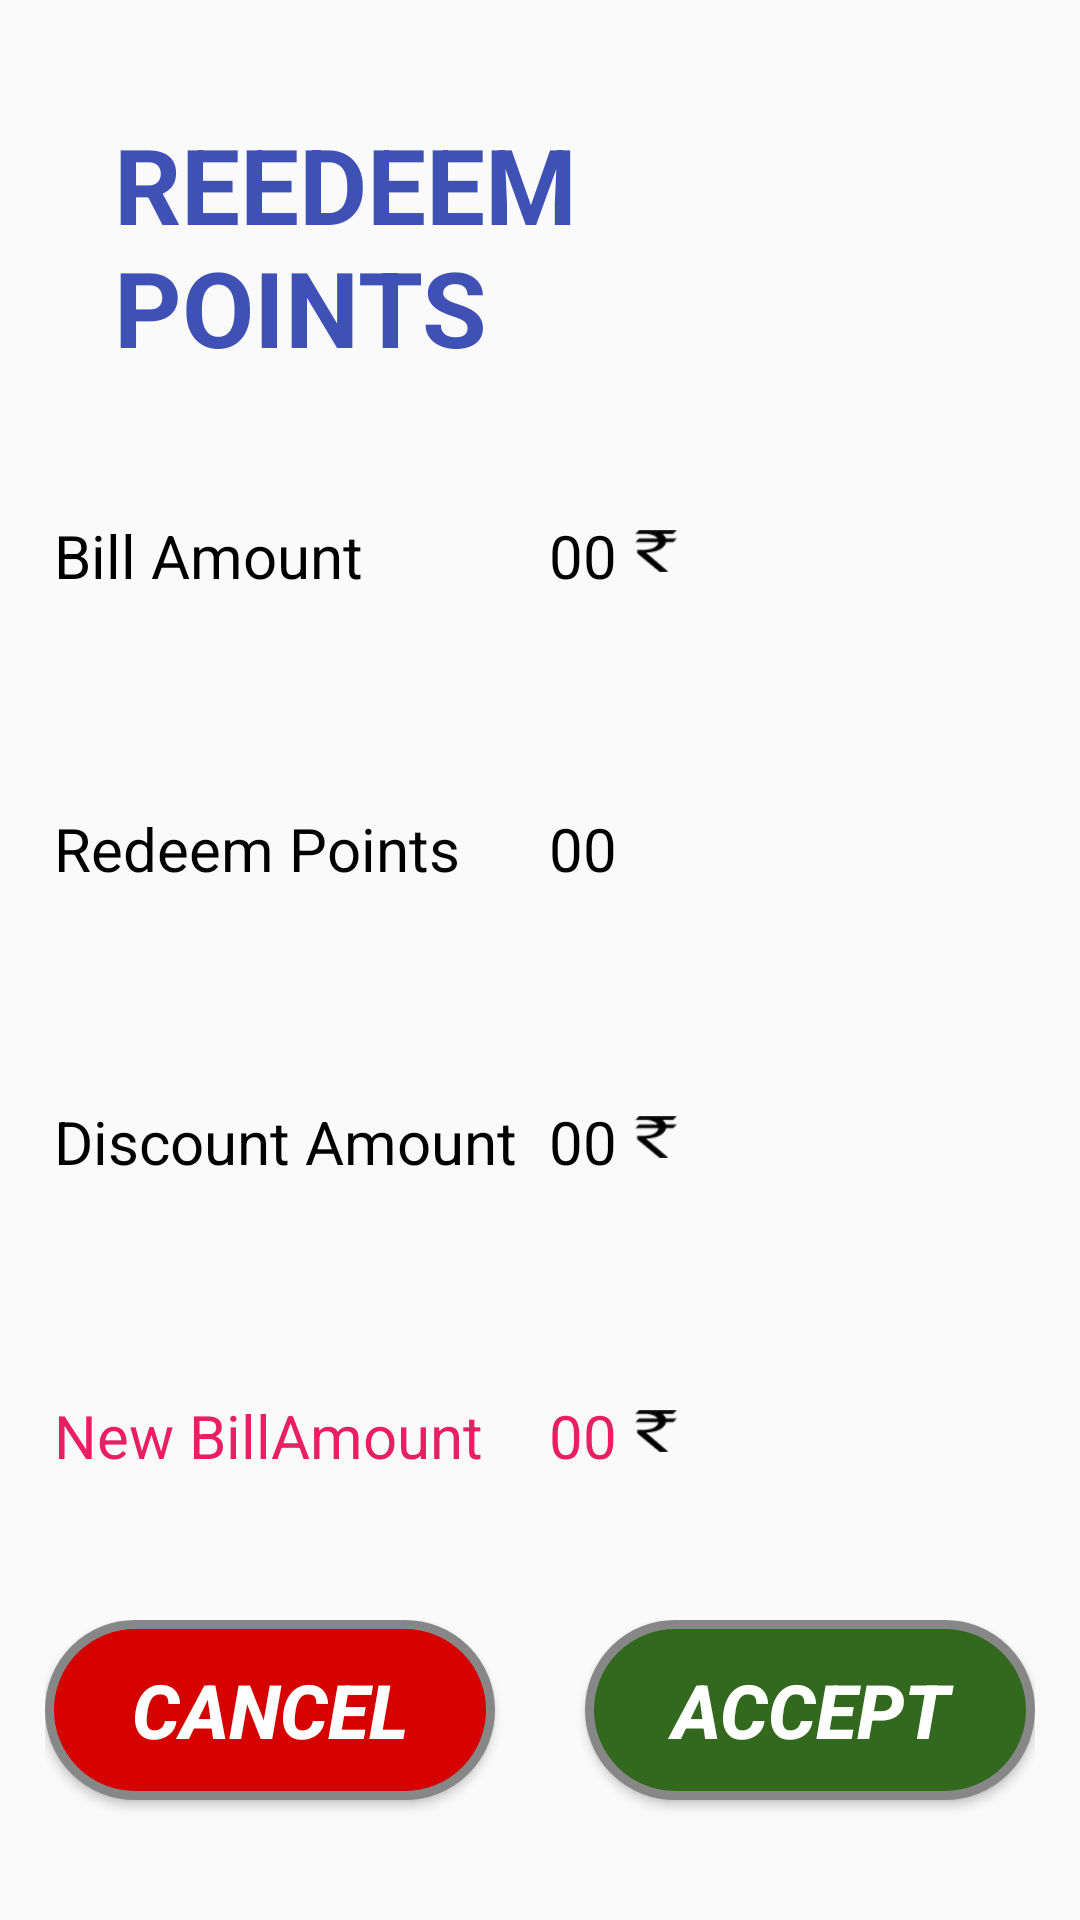

Screen size 1080px×1920px. Icon name, then its box in pixels as (x1, y1, x2, y2):
rupee: (635, 530, 677, 572), (635, 1116, 677, 1158), (635, 1410, 677, 1452)
